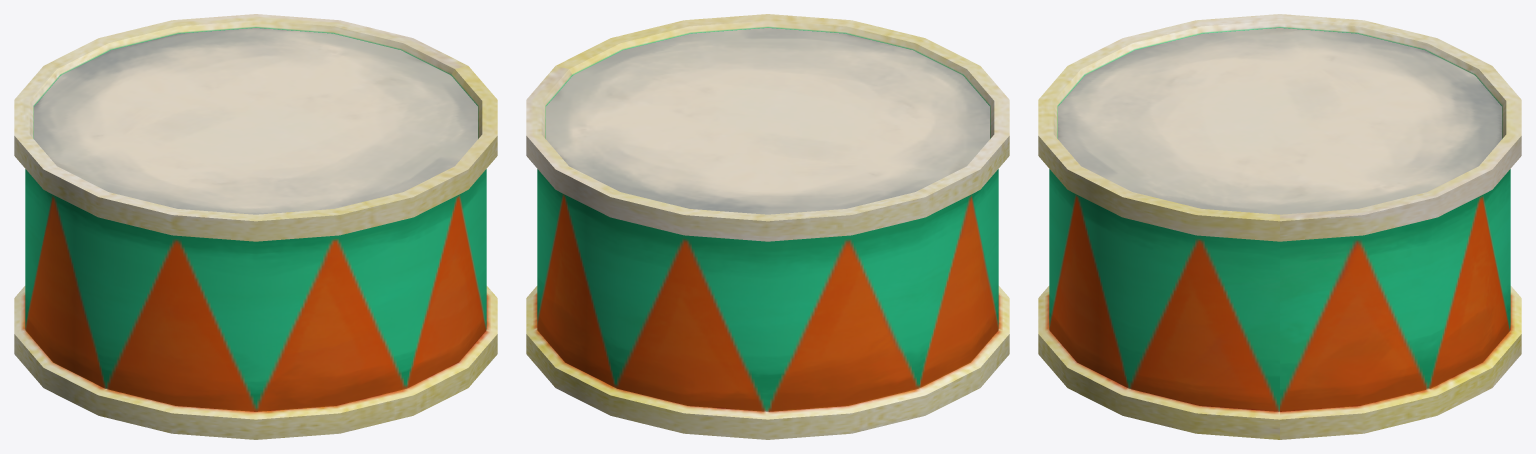
Rendered from Drum_01_TL 1.FBX.
3 renders of one model, left to right at view 1: azimuth 30°, elevation 25°; view 2: azimuth 150°, elevation 25°; view 3: azimuth 270°, elevation 25°, orthographic.
Visible parts, largest first — view 1: Drum; view 2: Drum; view 3: Drum.
Part boxes in pixels (x1=…): Drum: x1=14, y1=14, x2=497, y2=439; Drum: x1=526, y1=14, x2=1009, y2=439; Drum: x1=1038, y1=14, x2=1521, y2=439.
Bounding box in the file's own units: 29.75 × 14.63 × 29.3.
